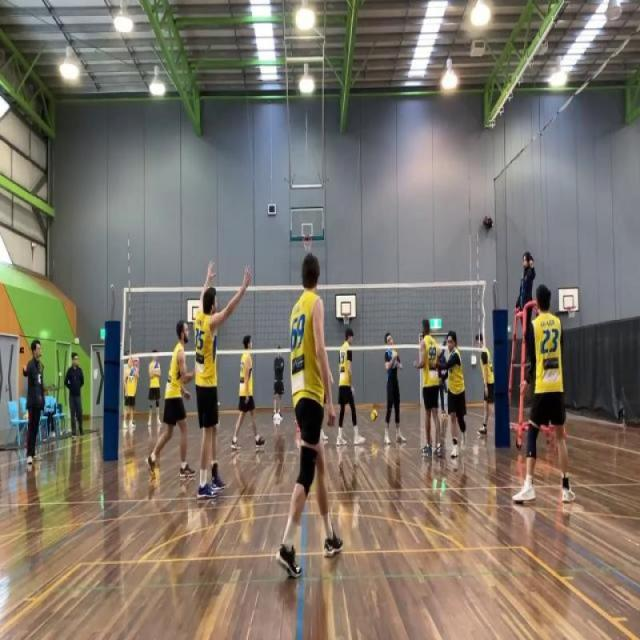volleyball: (370, 408, 378, 423)
